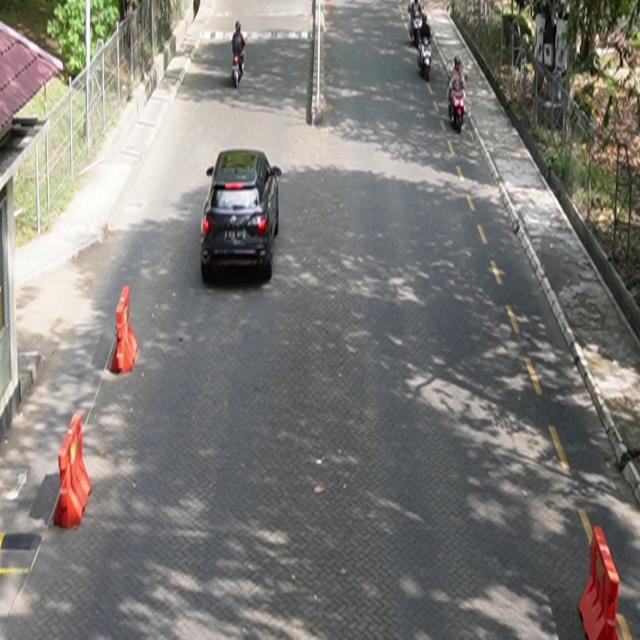car: (201, 149, 282, 283)
